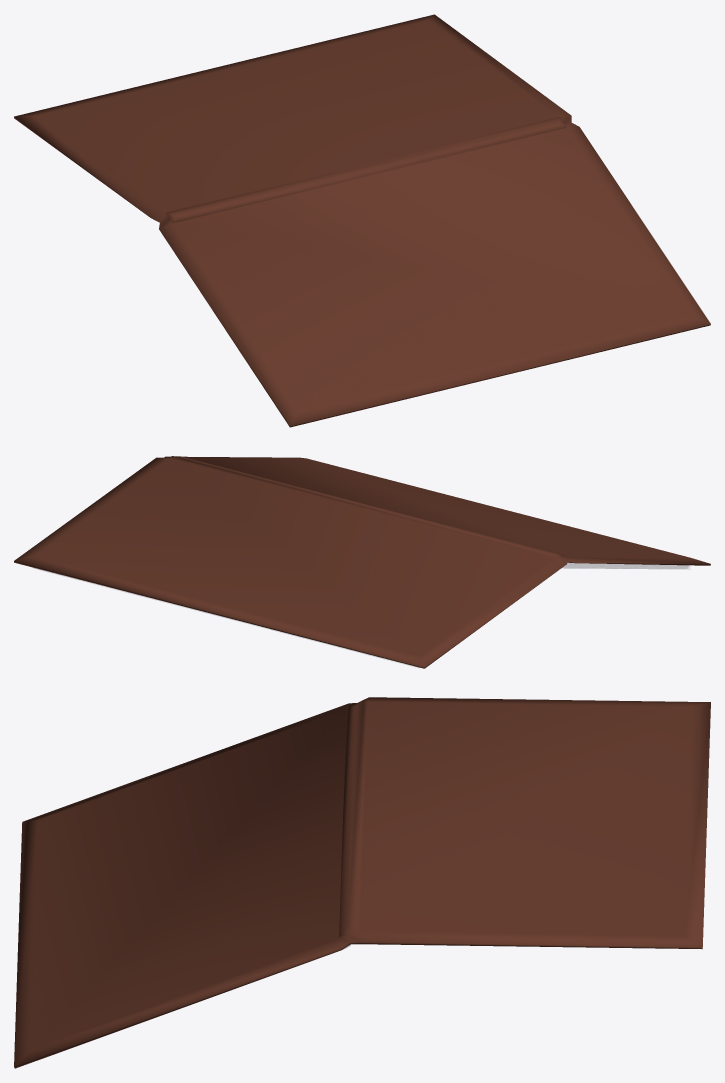
File: mdl_hub_passport.gltf
3 renders of one model, top to bottom at view 1: azimuth 30°, elevation 25°; view 2: azimuth 150°, elevation 25°; view 3: azimuth 270°, elevation 25°, orthographic. The views are drawn at different scales.
Parts seen in each view (by area): view 1: Leather bound; view 2: Leather bound, paper; view 3: Leather bound.
Part boxes in pixels (x1,y1,x2,y2): Leather bound: [14, 14, 710, 427]; Leather bound: [14, 456, 710, 668]; paper: [32, 562, 690, 668]; Leather bound: [14, 697, 710, 1068].
Bounding box in the file's own units: 2.03 × 0.5095 × 2.37.
Materials: 2 (2 with a texture image).
